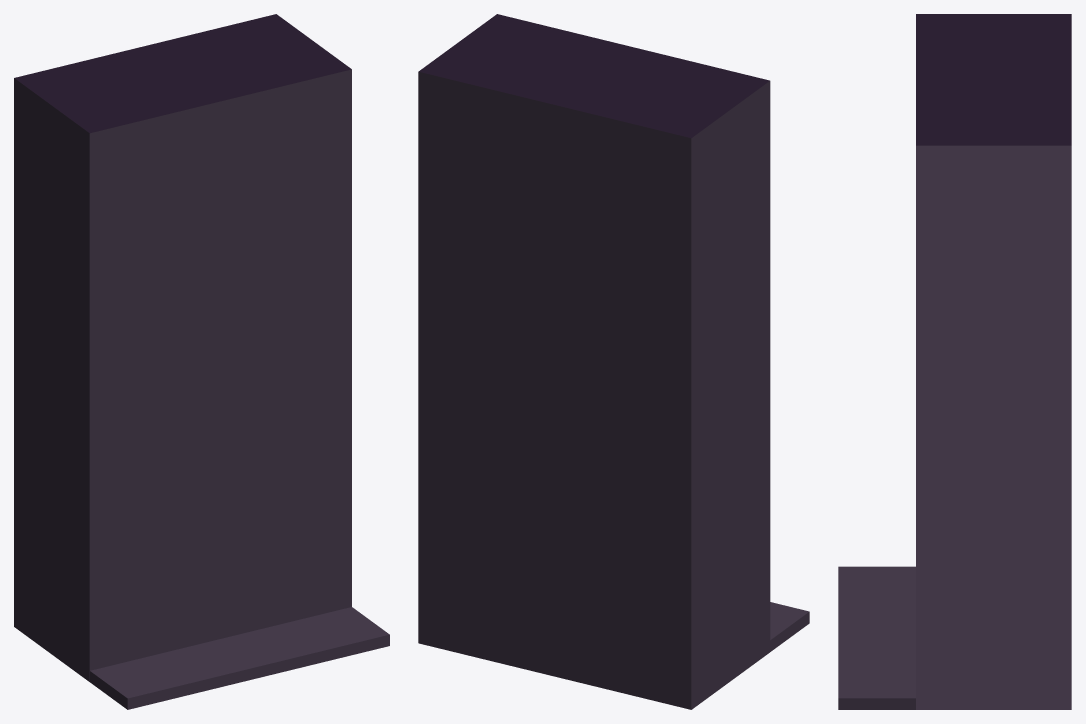
File: wall1.dae
The picture shows the model from 3 angles, left to right: view 1: azimuth 30°, elevation 25°; view 2: azimuth 150°, elevation 25°; view 3: azimuth 270°, elevation 25°; orthographic projection. The views are drawn at different scales.
Parts seen in each view (by area): view 1: wall1_MSH; view 2: wall1_MSH; view 3: wall1_MSH.
Boxes of the visible parts, x1=… form: wall1_MSH: x1=14, y1=14, x2=389, y2=709; wall1_MSH: x1=418, y1=14, x2=809, y2=709; wall1_MSH: x1=838, y1=14, x2=1071, y2=709.
Bounding box in the file's own units: 1 × 2 × 0.75.
